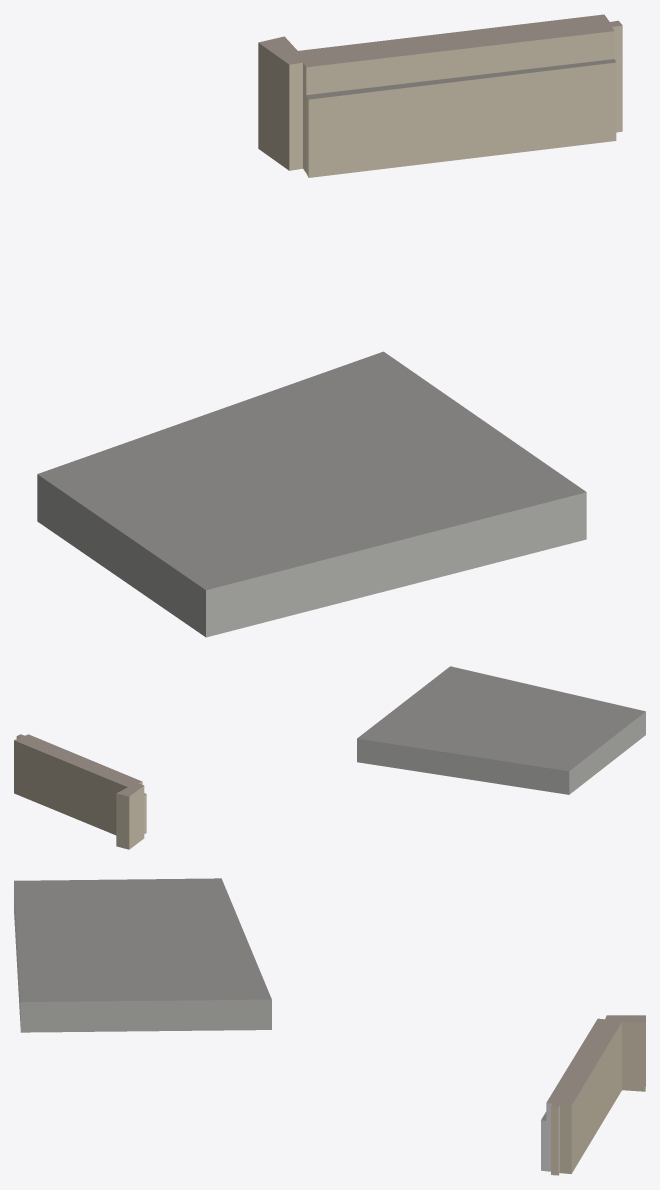
3 renders of one model, top to bottom at view 1: azimuth 30°, elevation 25°; view 2: azimuth 150°, elevation 25°; view 3: azimuth 270°, elevation 25°, orthographic. The views are drawn at different scales.
Parts seen in each view (by area): view 1: tuile; view 2: tuile; view 3: tuile.
Part boxes in pixels (x1,y1,x2,y2): tuile: [37, 14, 622, 637]; tuile: [14, 666, 645, 849]; tuile: [14, 878, 645, 1175].
Bounding box in the file's own units: 275 × 33.18 × 278.
